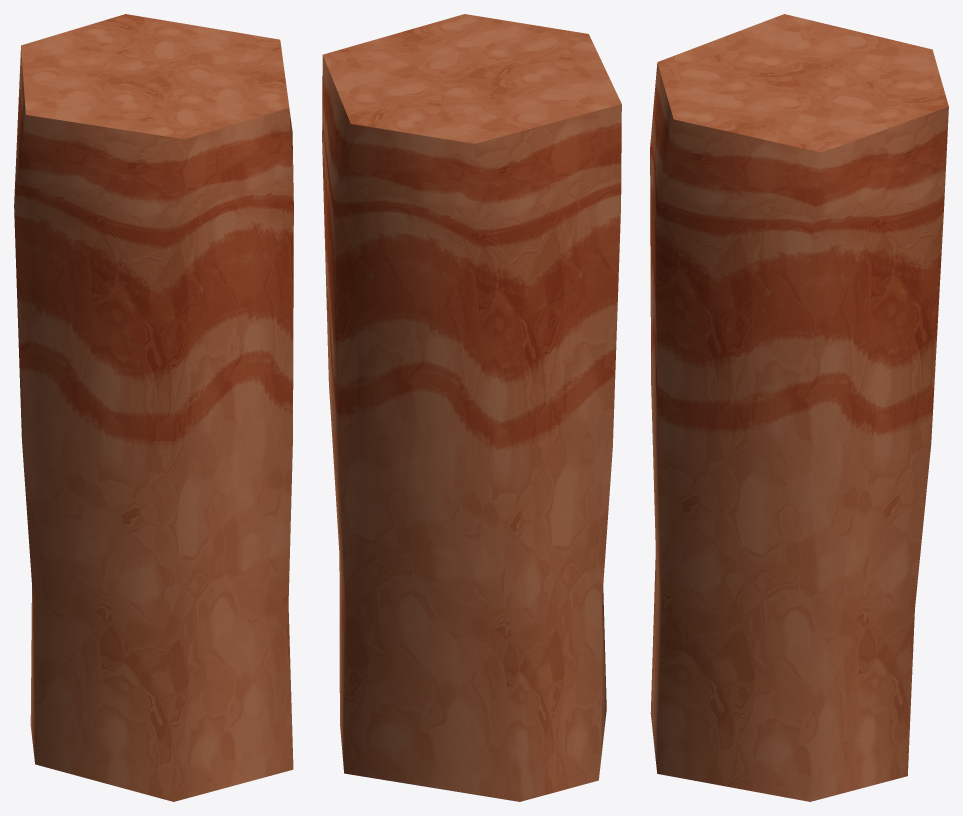
File: Tallcliff04.fbx
3 views of the same model, side by side, from view 1: azimuth 30°, elevation 25°; view 2: azimuth 150°, elevation 25°; view 3: azimuth 270°, elevation 25° (orthographic). The views are drawn at different scales.
Parts seen in each view (by area): view 1: Pillar.002; view 2: Pillar.002; view 3: Pillar.002.
Boxes of the visible parts, <box> form: Pillar.002: <box>14,14,293,801</box>; Pillar.002: <box>322,14,621,801</box>; Pillar.002: <box>650,14,948,801</box>.
Size of the model in its own units: 1.58 by 3.5 by 1.44.
